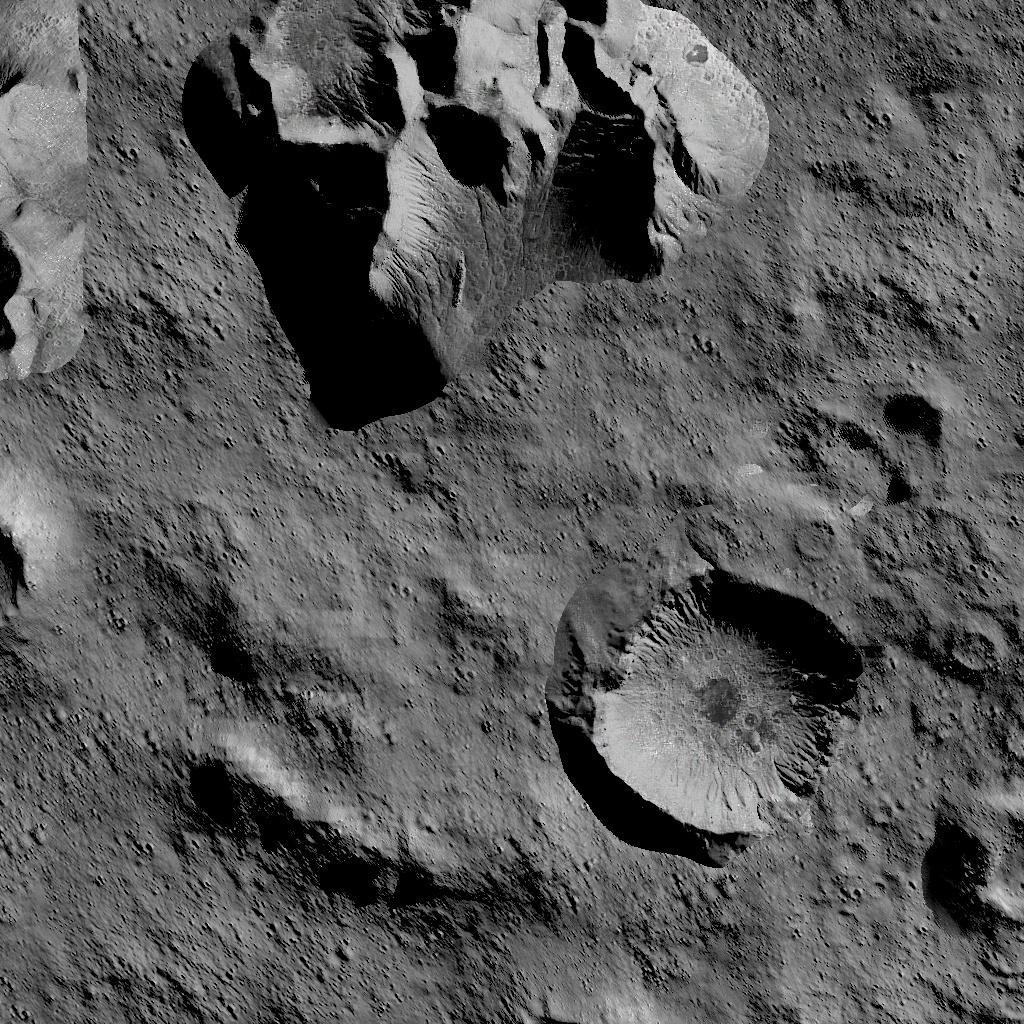Boulders: (186, 0, 770, 430), (186, 745, 560, 940), (0, 0, 91, 380)
Crater: (578, 565, 868, 850), (918, 785, 1024, 945), (0, 508, 41, 646)
Plan surface: (786, 0, 1024, 385), (0, 660, 173, 1024), (576, 862, 908, 1024)
